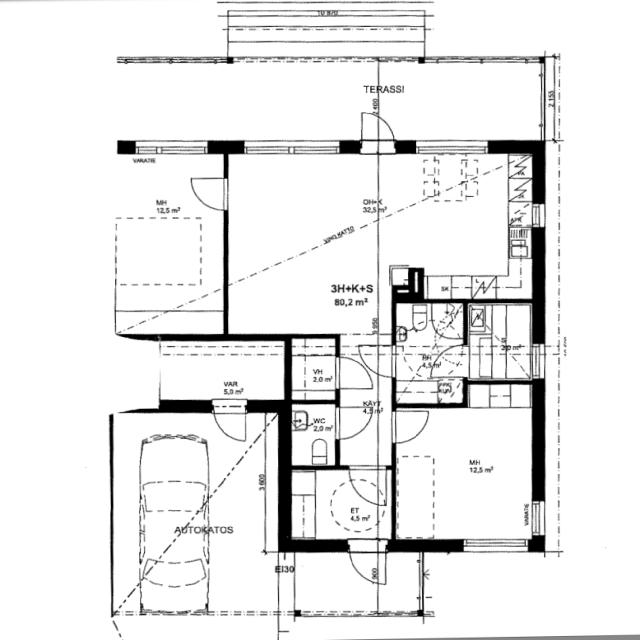door: (344, 532, 389, 588), (356, 108, 400, 156), (208, 398, 252, 443), (344, 461, 386, 508), (387, 406, 432, 447), (332, 404, 375, 443), (187, 173, 231, 211), (428, 341, 472, 379), (332, 355, 374, 392), (364, 342, 401, 381), (523, 340, 548, 382), (516, 200, 548, 231)
window: (237, 135, 345, 161), (127, 134, 214, 160), (454, 533, 535, 559), (410, 137, 494, 156), (528, 496, 550, 544), (524, 340, 548, 382), (526, 200, 551, 231)
zone: (224, 149, 384, 337), (394, 384, 539, 546), (110, 148, 226, 343), (135, 412, 212, 610), (284, 468, 394, 546), (393, 302, 469, 404), (470, 301, 538, 381), (288, 335, 340, 401), (288, 403, 339, 466), (423, 341, 467, 376)
